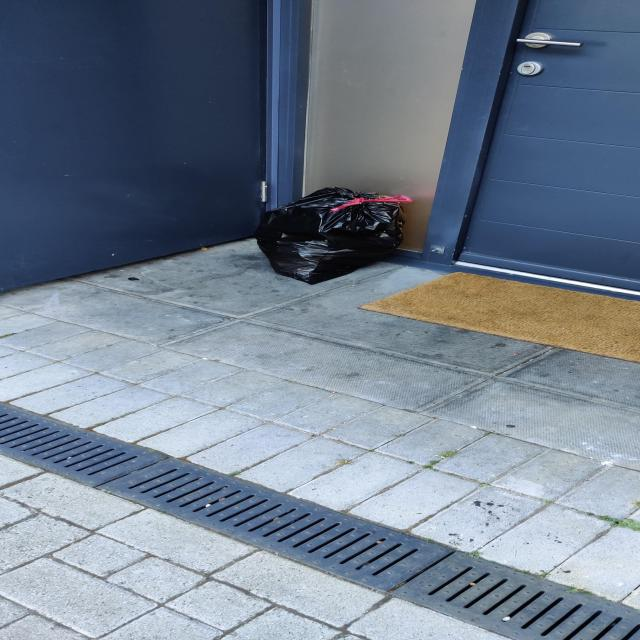litter: (243, 181, 423, 289)
